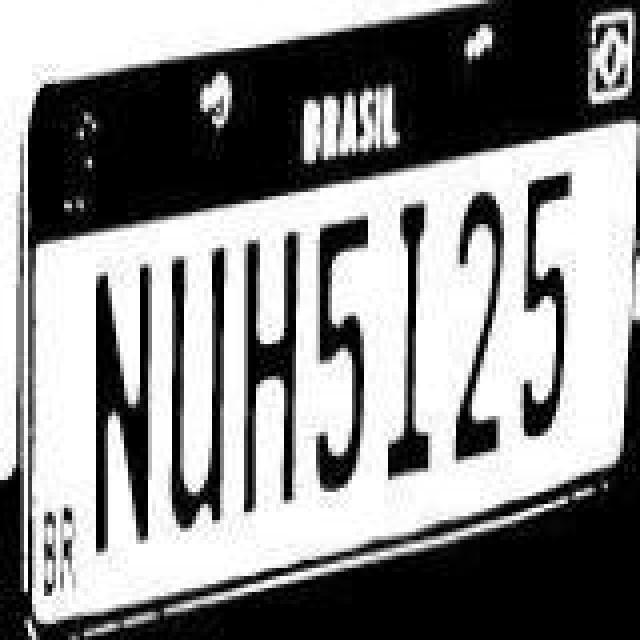2: (444, 168, 516, 452)
5: (310, 194, 378, 478), (520, 156, 584, 424)
H: (236, 212, 308, 500)
I: (380, 180, 444, 468)
N: (88, 248, 160, 556)
U: (160, 228, 232, 528)
